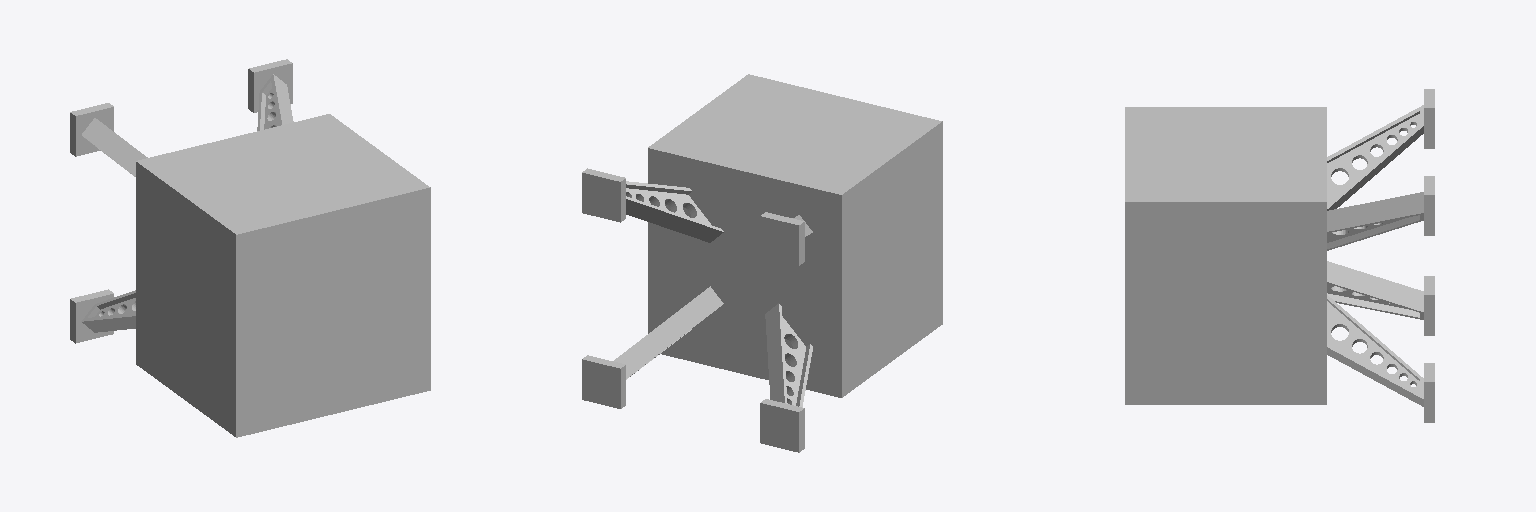
File: station.obj
The picture shows the model from 3 angles: view 1: azimuth 30°, elevation 25°; view 2: azimuth 150°, elevation 25°; view 3: azimuth 270°, elevation 25°; orthographic projection.
Visible parts, largest first — view 1: mesh58, mesh55, mesh57, mesh16, mesh18, mesh71, mesh59, mesh29; view 2: mesh24, mesh55, mesh57, mesh40, mesh64, mesh23, mesh70, mesh76, mesh50, mesh30, mesh77, mesh93; view 3: mesh56, mesh57, mesh49, mesh30, mesh86, mesh1, mesh14, mesh41, mesh39, mesh17, mesh46, mesh32.
Boxes of the visible parts, <box> form: mesh58: <box>236,187,430,437</box>; mesh55: <box>136,162,235,436</box>; mesh57: <box>136,114,429,234</box>; mesh16: <box>82,118,147,175</box>; mesh18: <box>76,107,113,156</box>; mesh71: <box>254,63,292,112</box>; mesh59: <box>76,294,113,342</box>; mesh29: <box>82,316,135,332</box>; mesh24: <box>648,148,841,397</box>; mesh55: <box>842,121,942,397</box>; mesh57: <box>648,74,941,194</box>; mesh40: <box>614,286,723,378</box>; mesh64: <box>760,403,798,452</box>; mesh23: <box>760,216,798,265</box>; mesh70: <box>582,359,620,408</box>; mesh76: <box>582,173,620,222</box>; mesh50: <box>626,199,723,242</box>; mesh30: <box>765,303,784,402</box>; mesh77: <box>782,316,805,405</box>; mesh93: <box>626,188,710,224</box>; mesh56: <box>1125,202,1326,404</box>; mesh57: <box>1125,107,1326,201</box>; mesh49: <box>1327,192,1423,231</box>; mesh30: <box>1327,261,1423,311</box>; mesh86: <box>1327,301,1419,392</box>; mesh1: <box>1327,114,1419,204</box>; mesh14: <box>1327,105,1423,208</box>; mesh41: <box>1327,295,1423,398</box>; mesh39: <box>1327,347,1423,406</box>; mesh17: <box>1327,126,1423,210</box>; mesh46: <box>1327,215,1419,248</box>; mesh32: <box>1327,293,1419,317</box>.
Bounding box in the file's own units: 0.1119 × 0.1119 × 0.1383.